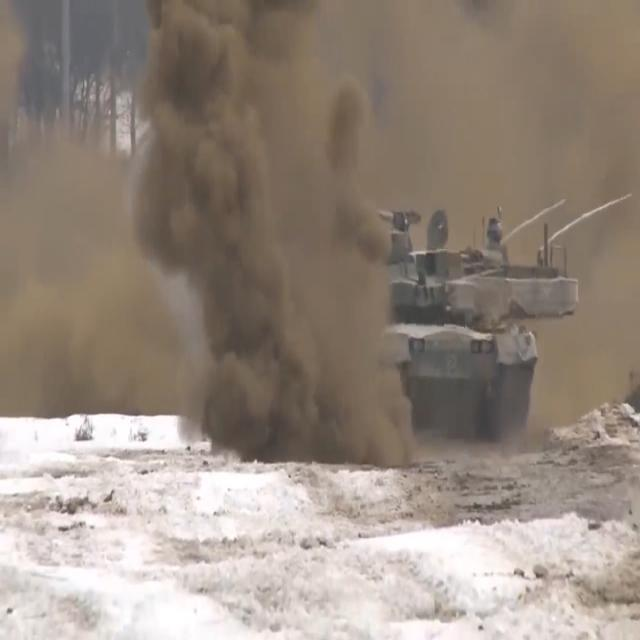korea tank: (203, 205, 579, 441)
